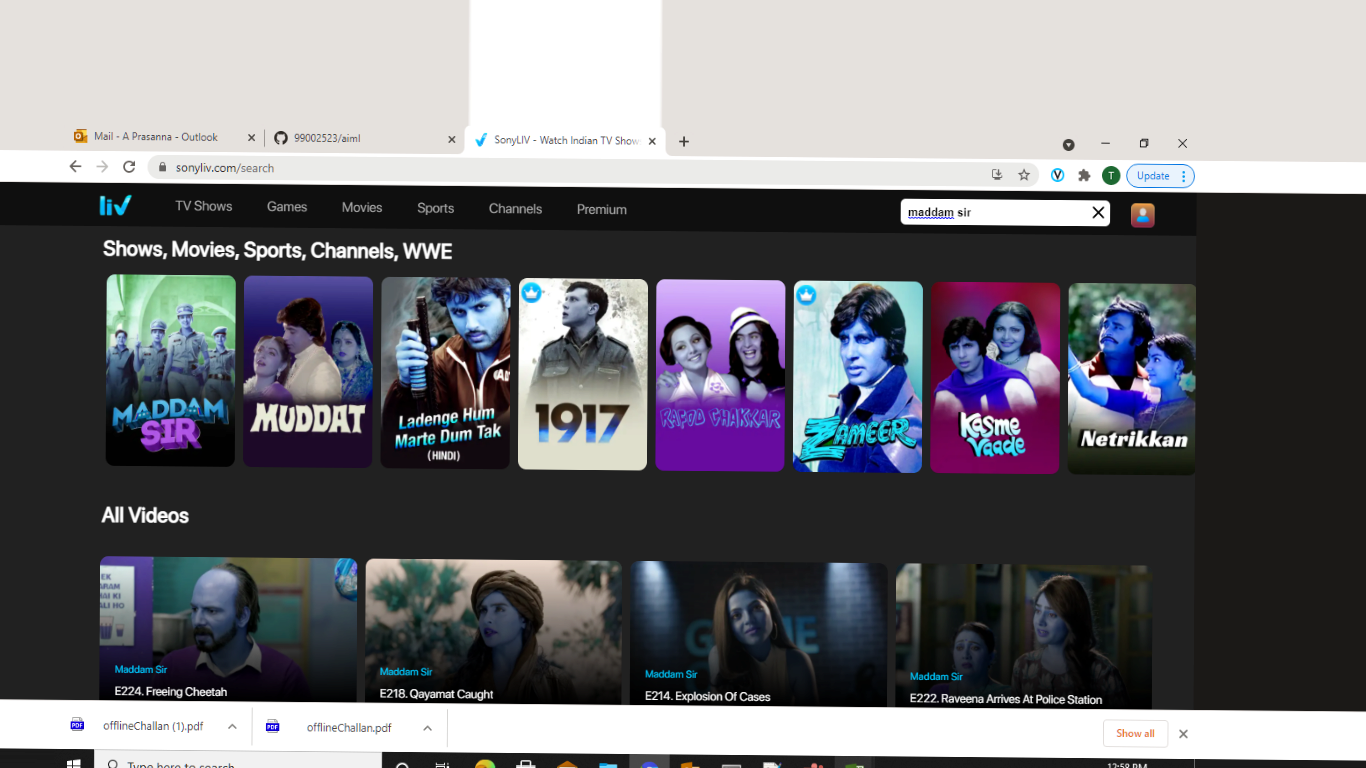profileicon: (1123, 203, 1157, 230)
resultsfound: (98, 235, 470, 270)
searchtextbox: (900, 194, 1118, 230)
